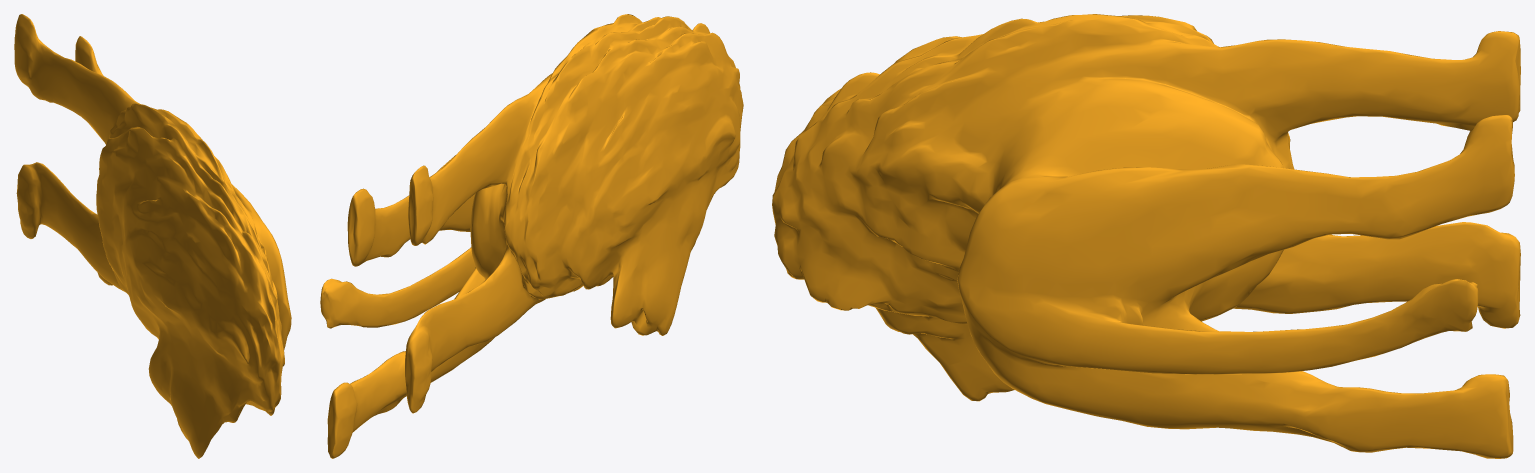
The model's file is Lion.dae.
3 renders of one model, left to right at view 1: azimuth 30°, elevation 25°; view 2: azimuth 150°, elevation 25°; view 3: azimuth 270°, elevation 25°, orthographic. The views are drawn at different scales.
Visible parts, largest first — view 1: model; view 2: model; view 3: model.
Boxes of the visible parts, x1,y1,x2,y2 form: model: (14,14,291,458); model: (320,14,743,458); model: (772,14,1520,458).
Bounding box in the file's own units: 0.115 × 0.404 × 0.239.
